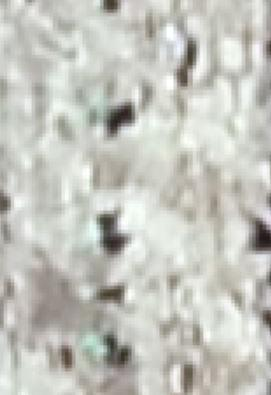cotton: (85, 333, 109, 365), (88, 101, 106, 123), (88, 218, 99, 230)
